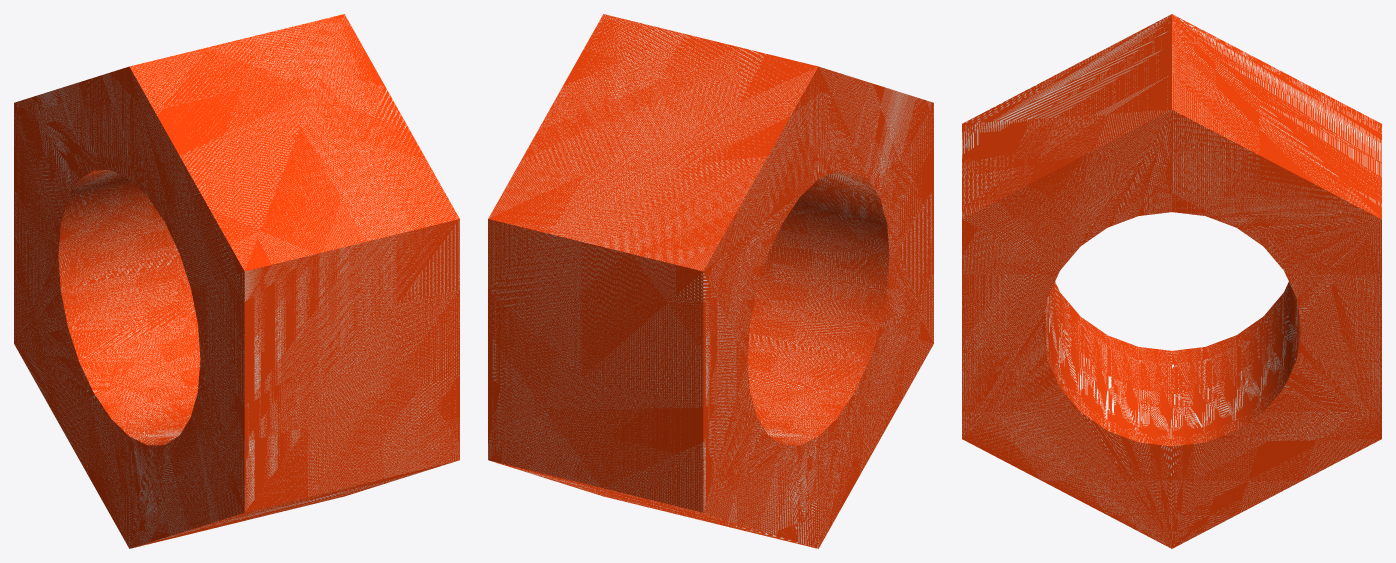
Rendered from original-5.obj.
3 views of the same model, side by side, from view 1: azimuth 30°, elevation 25°; view 2: azimuth 150°, elevation 25°; view 3: azimuth 270°, elevation 25° (orthographic). The views are drawn at different scales.
Parts seen in each view (by area): view 1: Nut_M8_1/Nut_M8/mesh3/mesh3-geometry#mesh3-geometry; view 2: Nut_M8_1/Nut_M8/mesh3/mesh3-geometry#mesh3-geometry; view 3: Nut_M8_1/Nut_M8/mesh3/mesh3-geometry#mesh3-geometry.
Boxes of the visible parts, box(x1,y1,x2,y2) form: Nut_M8_1/Nut_M8/mesh3/mesh3-geometry#mesh3-geometry: box(14, 14, 459, 548); Nut_M8_1/Nut_M8/mesh3/mesh3-geometry#mesh3-geometry: box(488, 14, 933, 548); Nut_M8_1/Nut_M8/mesh3/mesh3-geometry#mesh3-geometry: box(962, 14, 1381, 548).
Size of the model in its own units: 0.0169 by 0.0361 by 0.0313.
